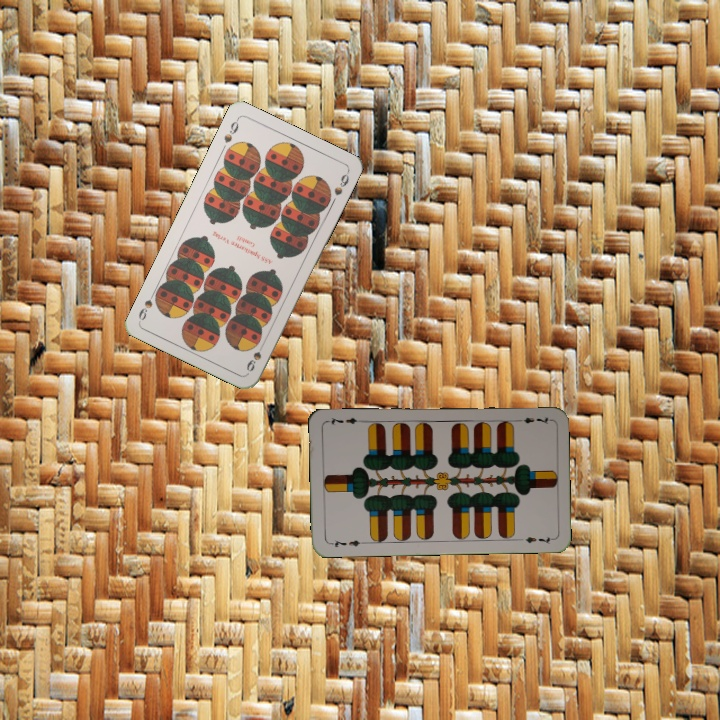E7: (326, 536, 366, 550), (512, 413, 552, 427)
S9: (242, 337, 268, 374), (220, 115, 241, 145)
